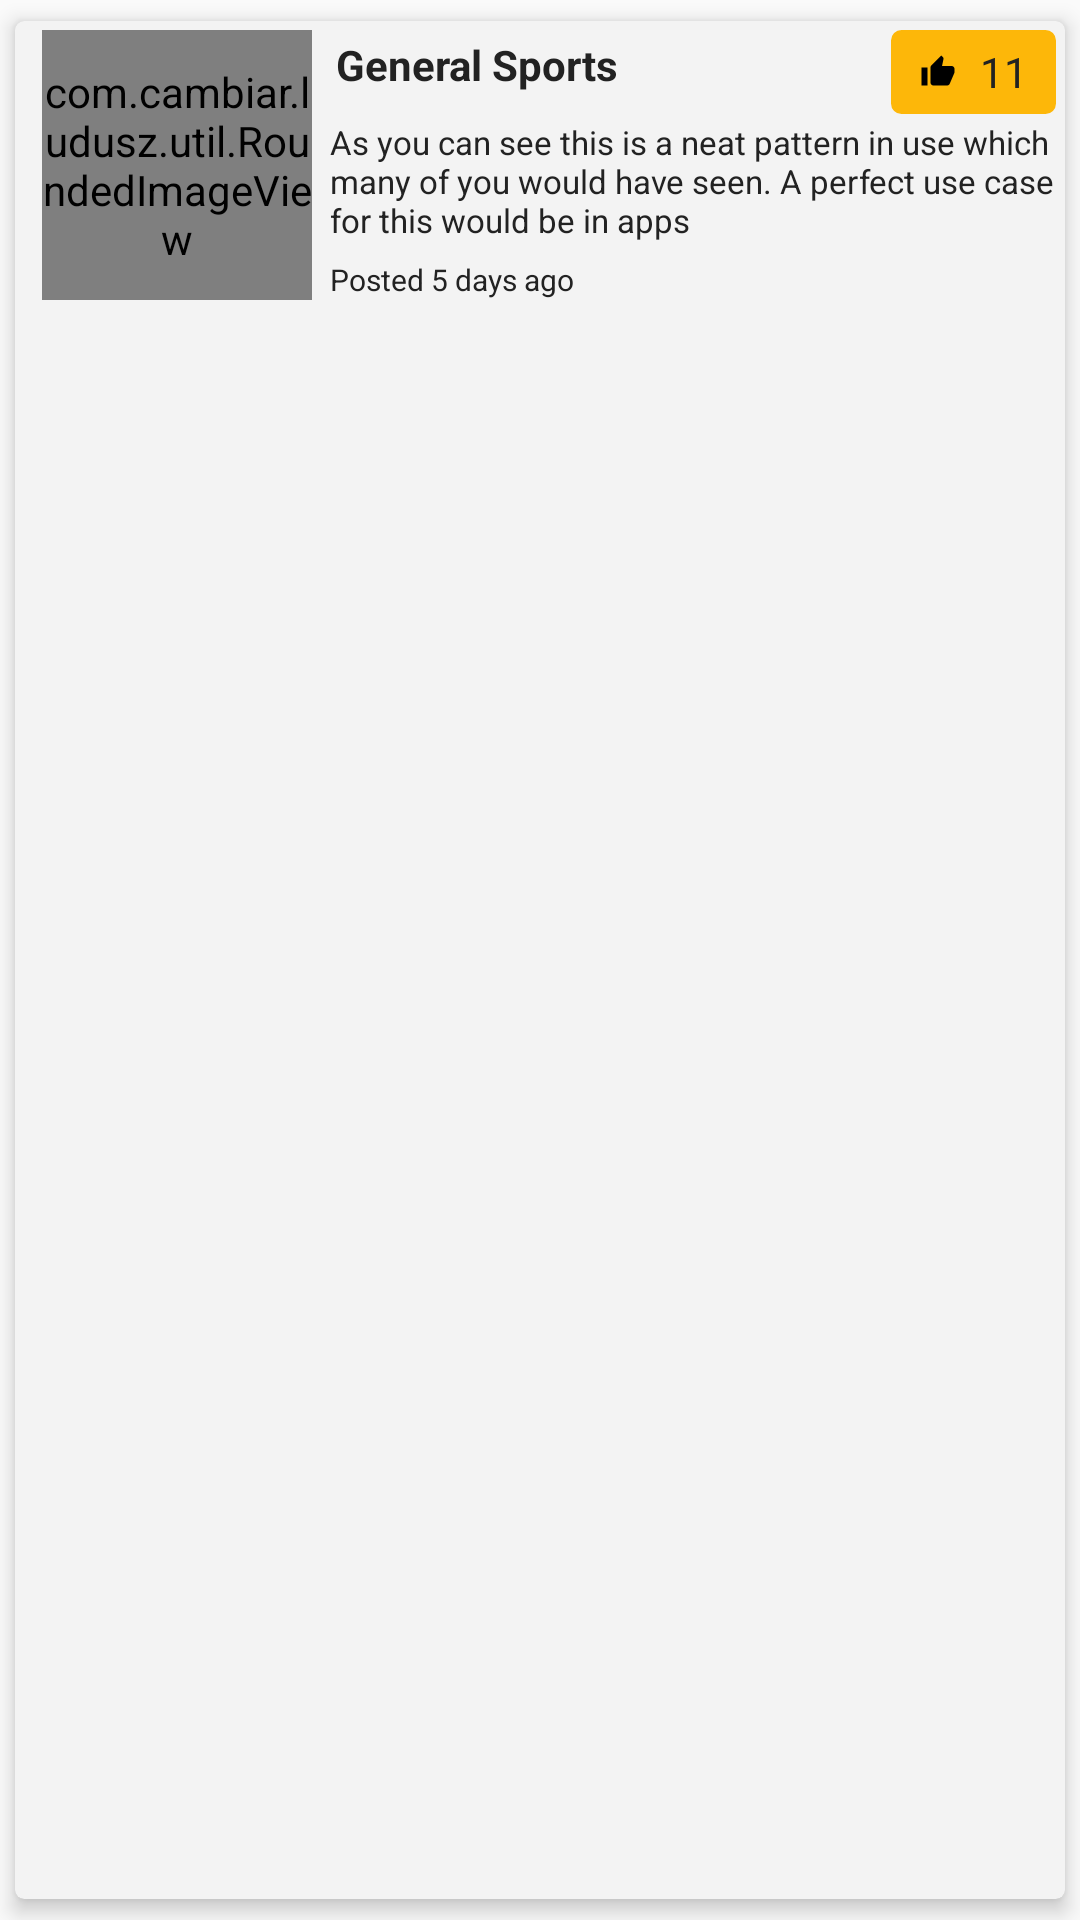

Where icons sit on this 1080 × 1920 app screen, as {"left": x1, "top": y1, "right": x2, "bottom": y2}:
thumb up: {"left": 921, "top": 55, "right": 955, "bottom": 86}
